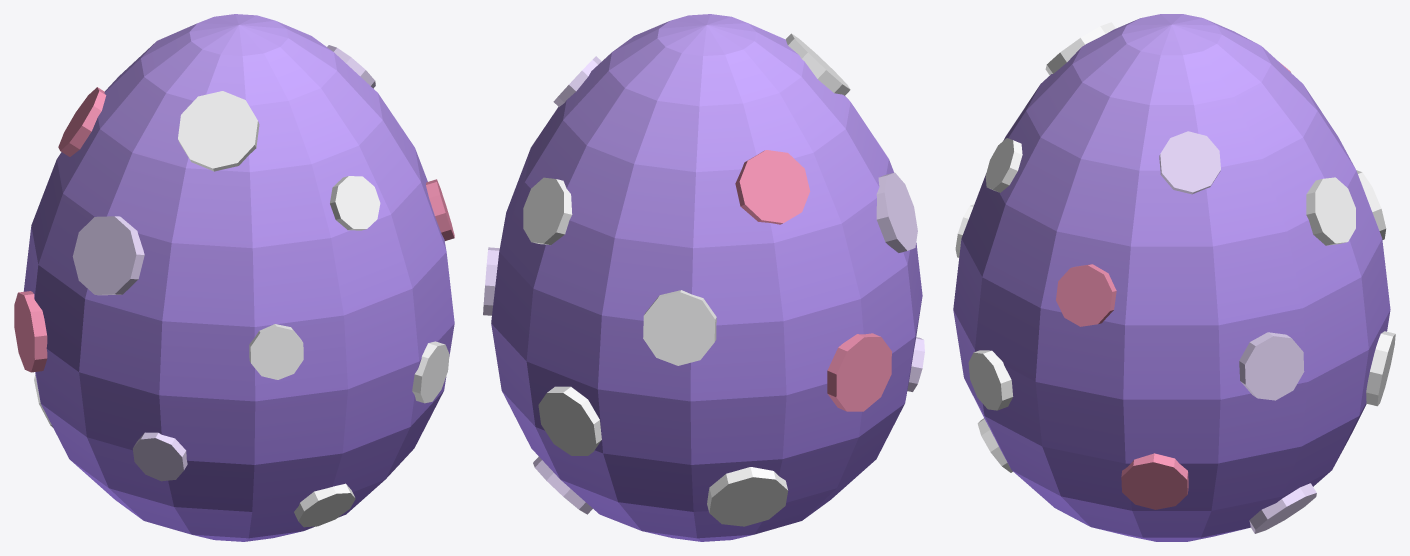
The model's file is egg_rare.glb.
3 renders of one model, left to right at view 1: azimuth 30°, elevation 25°; view 2: azimuth 150°, elevation 25°; view 3: azimuth 270°, elevation 25°, orthographic.
Parts seen in each view (by area): view 1: shell; view 2: shell; view 3: shell.
Boxes of the visible parts, box(x1,y1,x2,y2) form: shell: box(14, 14, 454, 541); shell: box(483, 14, 924, 541); shell: box(953, 14, 1395, 541).
Size of the model in its own units: 1.02 by 1.27 by 1.02.
Materials: 1 (1 with a texture image).
